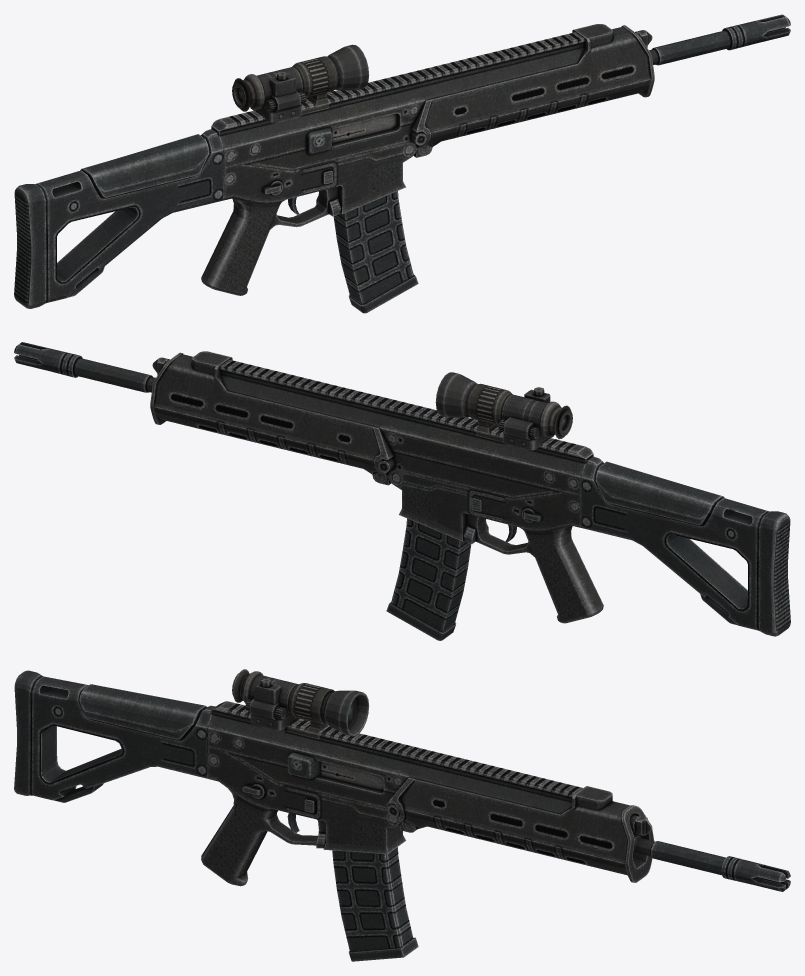
File: qiang3+danjia.FBX
3 renders of one model, top to bottom at view 1: azimuth 30°, elevation 25°; view 2: azimuth 150°, elevation 25°; view 3: azimuth 330°, elevation 25°, orthographic.
Parts seen in each view (by area): view 1: AssaultRifle01_Body01, qiang3-danjia; view 2: AssaultRifle01_Body01, qiang3-danjia; view 3: AssaultRifle01_Body01, qiang3-danjia.
Boxes of the visible parts, x1,y1,x2,y2 form: AssaultRifle01_Body01: (14, 14, 790, 308); qiang3-danjia: (333, 191, 418, 313); AssaultRifle01_Body01: (14, 342, 790, 636); qiang3-danjia: (386, 518, 471, 640); AssaultRifle01_Body01: (14, 669, 790, 891); qiang3-danjia: (332, 847, 418, 961).
Bounding box in the file's own units: 95.16 × 31.12 × 6.07.
